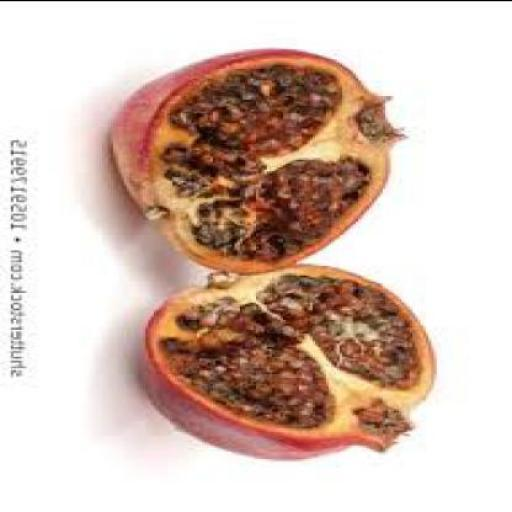biodegradable: (111, 50, 410, 276), (138, 265, 442, 460), (162, 70, 345, 188), (167, 305, 329, 427), (267, 276, 415, 385), (204, 164, 367, 259)
